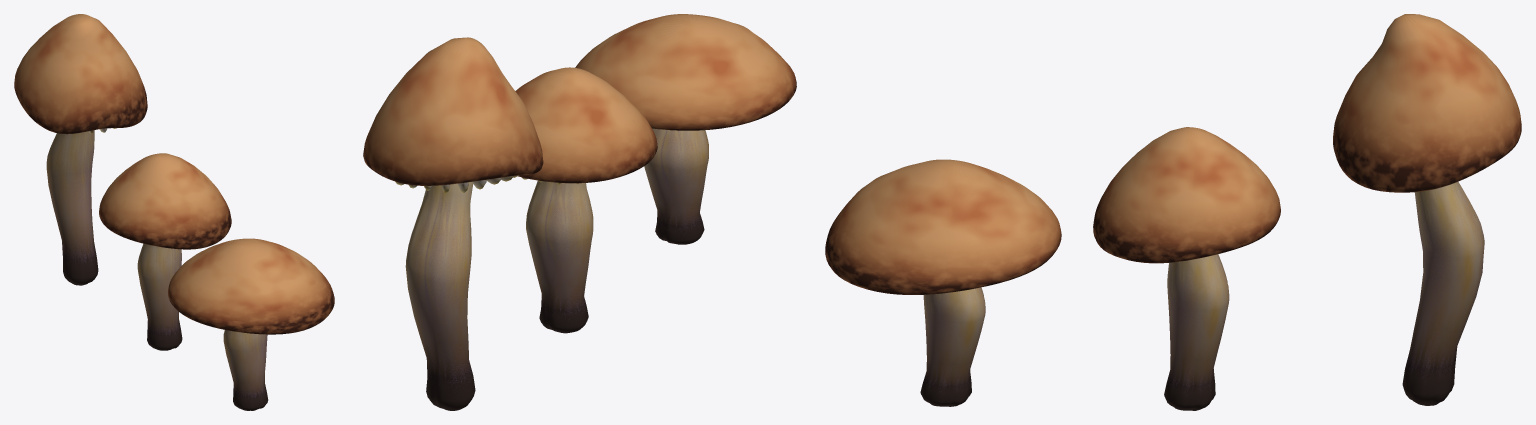
3 views of the same model, side by side, from view 1: azimuth 30°, elevation 25°; view 2: azimuth 150°, elevation 25°; view 3: azimuth 270°, elevation 25° (orthographic). The views are drawn at different scales.
Visible parts, largest first — view 1: TallMushroomM.001, TallMushroomM.002, TallMushroomM; view 2: TallMushroomM.001, TallMushroomM.002, TallMushroomM; view 3: TallMushroomM.001, TallMushroomM.002, TallMushroomM.
Boxes of the visible parts, x1,y1,x2,y2 form: TallMushroomM.001: (14, 14, 147, 285); TallMushroomM.002: (168, 238, 334, 410); TallMushroomM: (99, 153, 231, 350); TallMushroomM.001: (363, 37, 543, 410); TallMushroomM.002: (575, 14, 796, 244); TallMushroomM: (515, 67, 657, 333); TallMushroomM.001: (1333, 14, 1521, 405); TallMushroomM.002: (825, 159, 1061, 406); TallMushroomM: (1093, 127, 1280, 410).
Bounding box in the file's own units: 8.49 × 15.45 × 24.95.
Materials: 1 (1 with a texture image).
